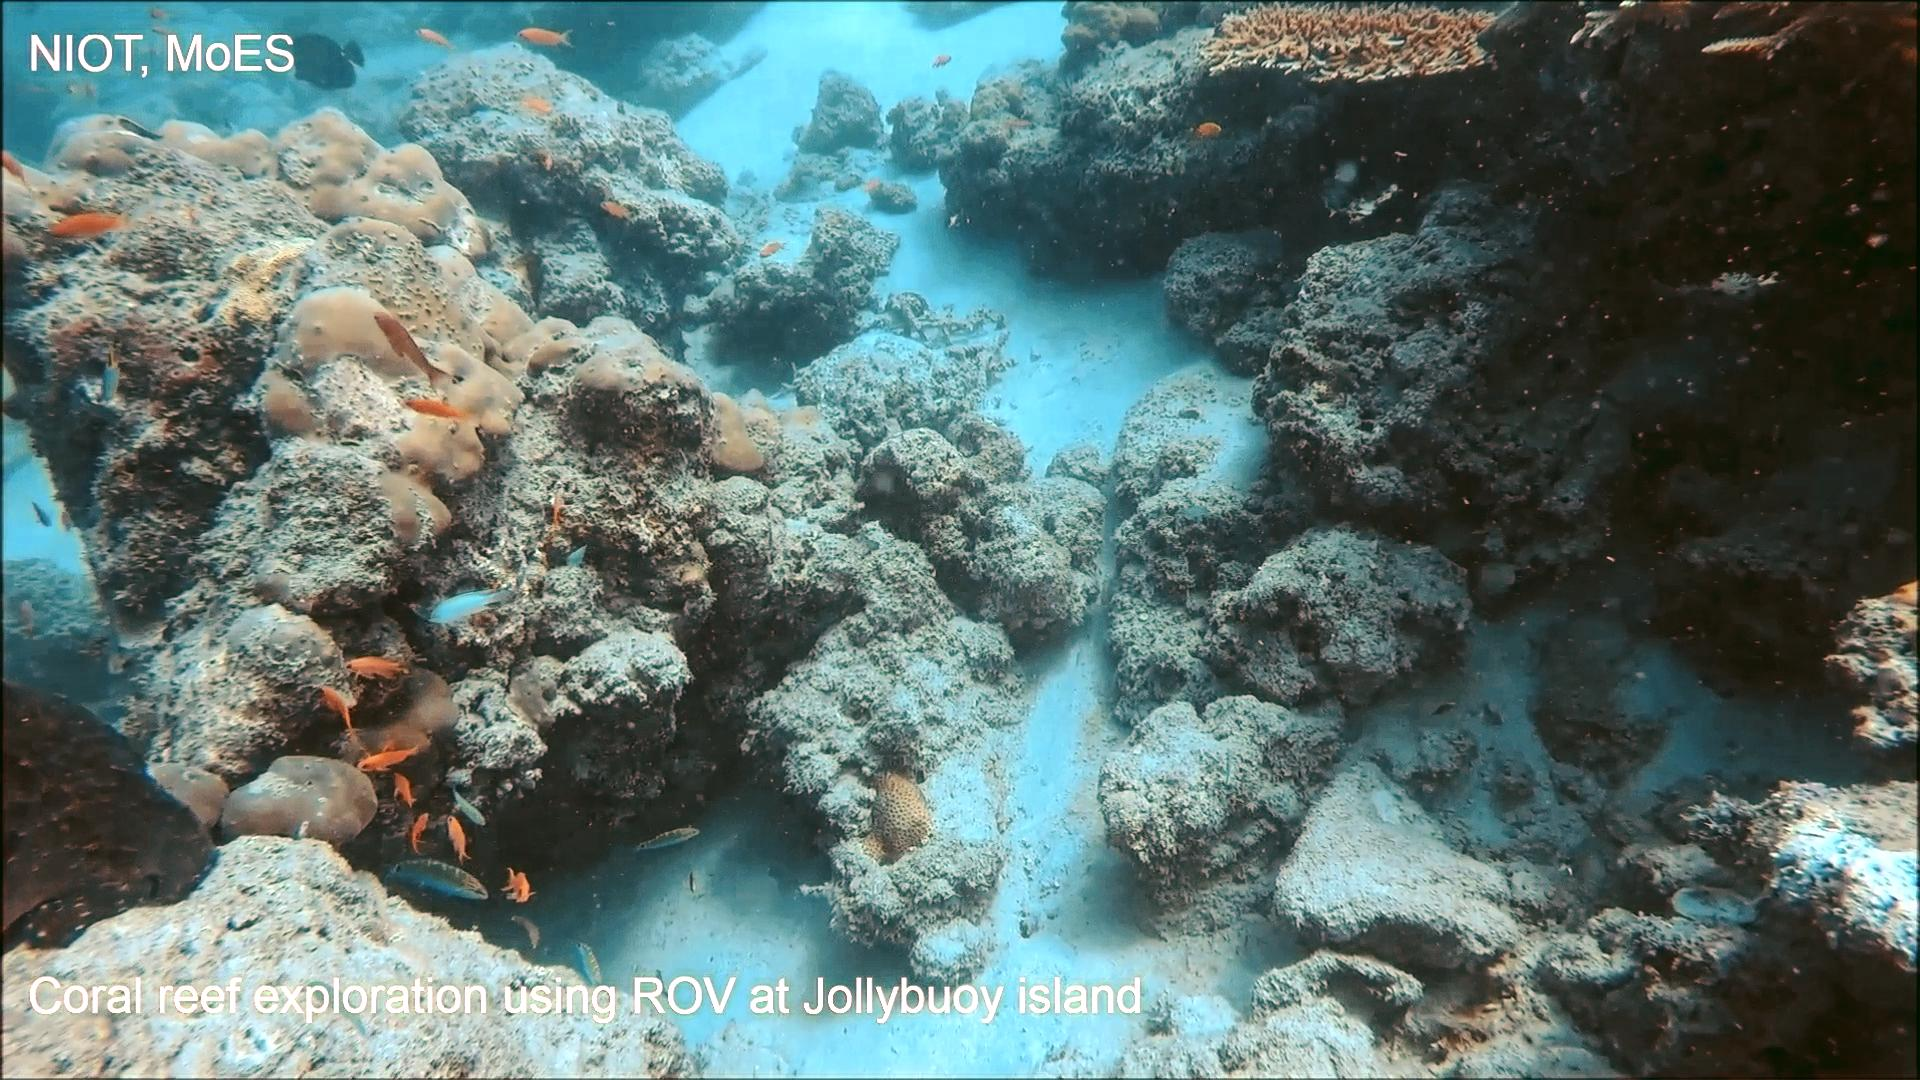Porites-Porites pukoensis: (233, 102, 589, 560), (243, 447, 243, 447)
